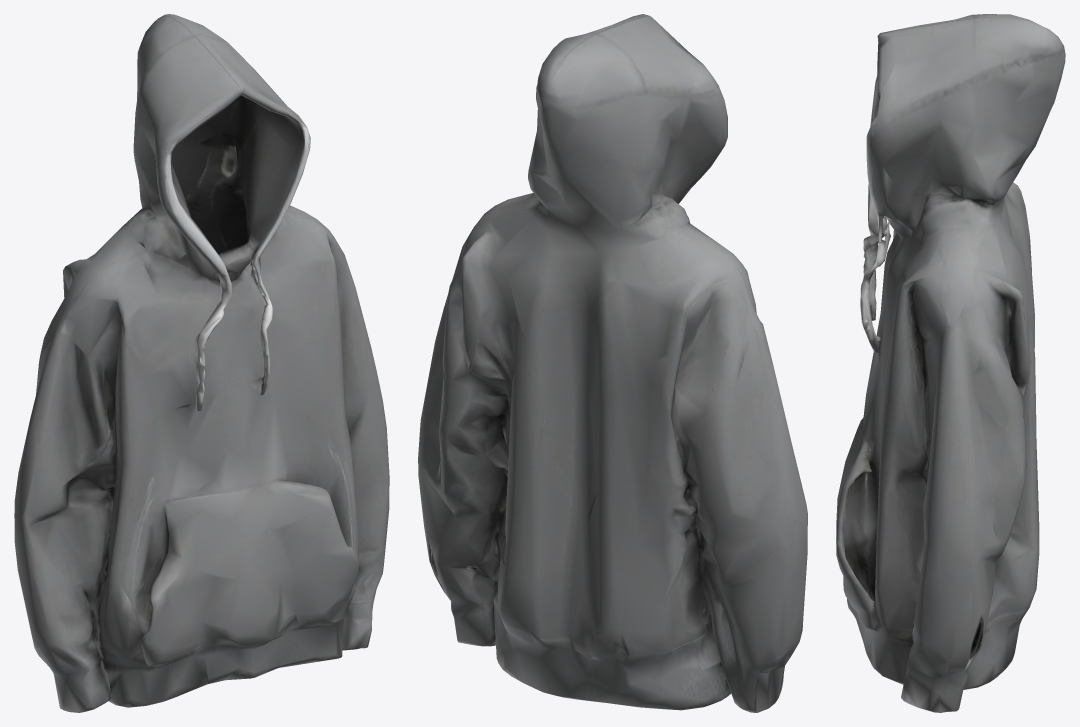
The model's file is hoodie.glb.
The picture shows the model from 3 angles, left to right: view 1: azimuth 30°, elevation 25°; view 2: azimuth 150°, elevation 25°; view 3: azimuth 270°, elevation 25°; orthographic projection. The views are drawn at different scales.
Size of the model in its own units: 1.21 by 2 by 0.6629.
1 material, 1 textured.
